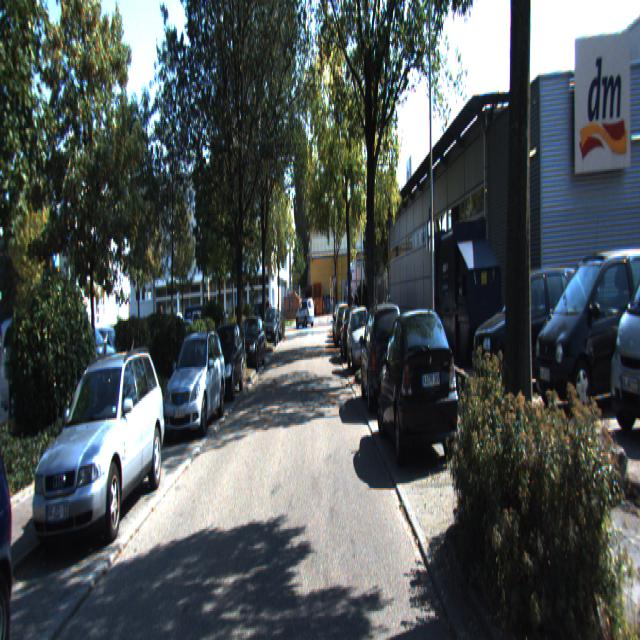Car: (32, 346, 167, 560), (527, 235, 640, 432), (475, 260, 596, 407), (376, 305, 458, 477), (603, 219, 639, 459), (0, 392, 34, 638), (162, 327, 226, 441), (360, 298, 408, 419), (207, 320, 244, 405), (346, 304, 376, 374), (340, 308, 364, 366)
